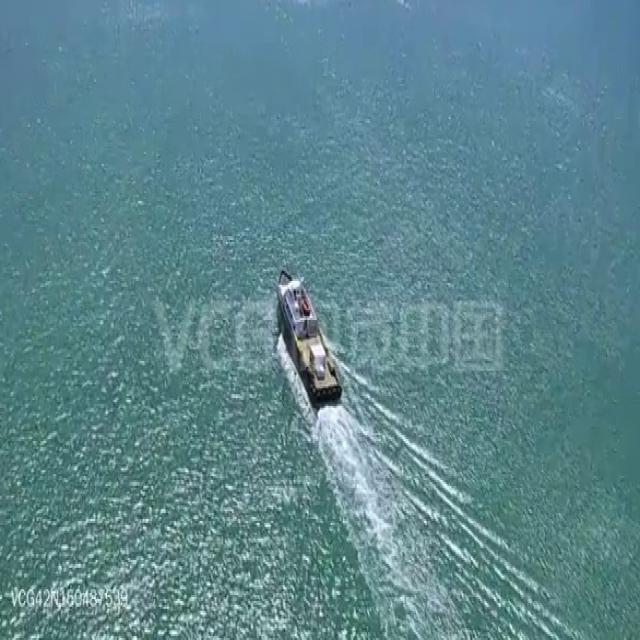houseboat: (273, 268, 340, 402)
